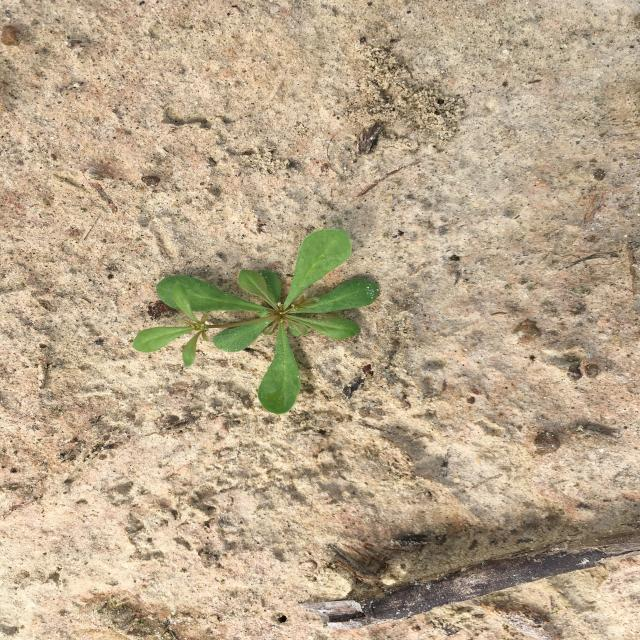Carpetweed: (132, 229, 379, 415)
